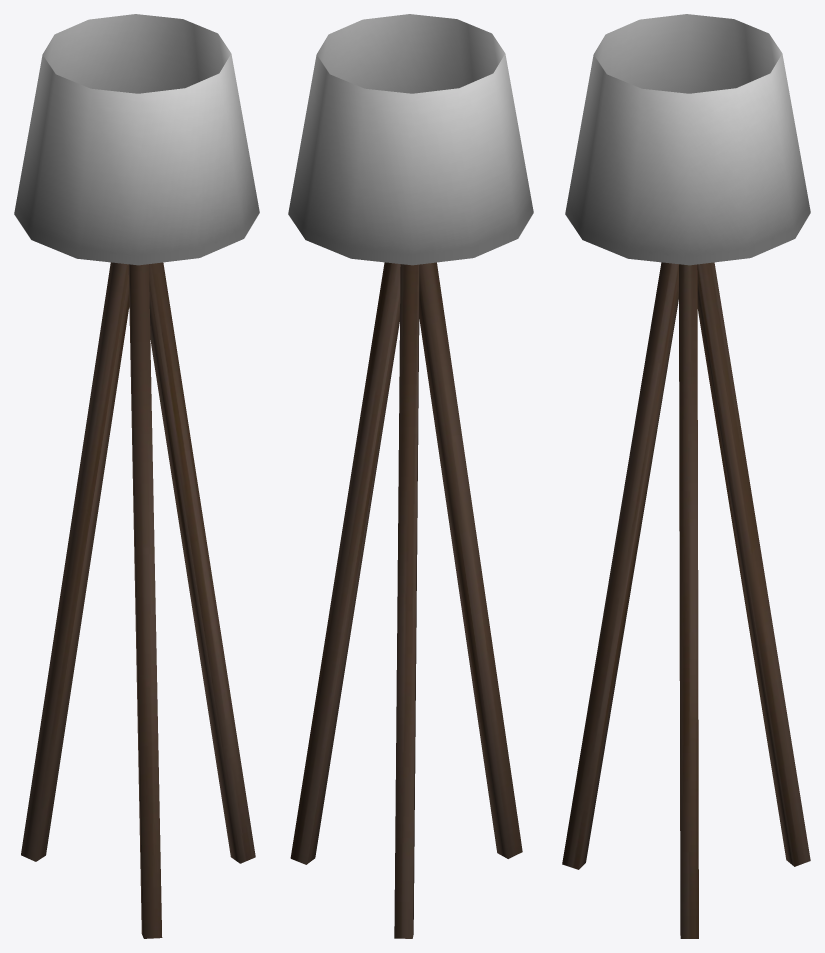
Rendered from lighting02.glb.
3 views of the same model, side by side, from view 1: azimuth 30°, elevation 25°; view 2: azimuth 150°, elevation 25°; view 3: azimuth 270°, elevation 25° (orthographic).
Visible parts, largest first — view 1: lighting02; view 2: lighting02; view 3: lighting02.
Boxes of the visible parts, x1,y1,x2,y2 form: lighting02: (14,14,259,938); lighting02: (288,14,533,938); lighting02: (562,14,810,938).
Bounding box in the file's own units: 0.3812 × 1.37 × 0.3706.
1 material, 1 textured.
